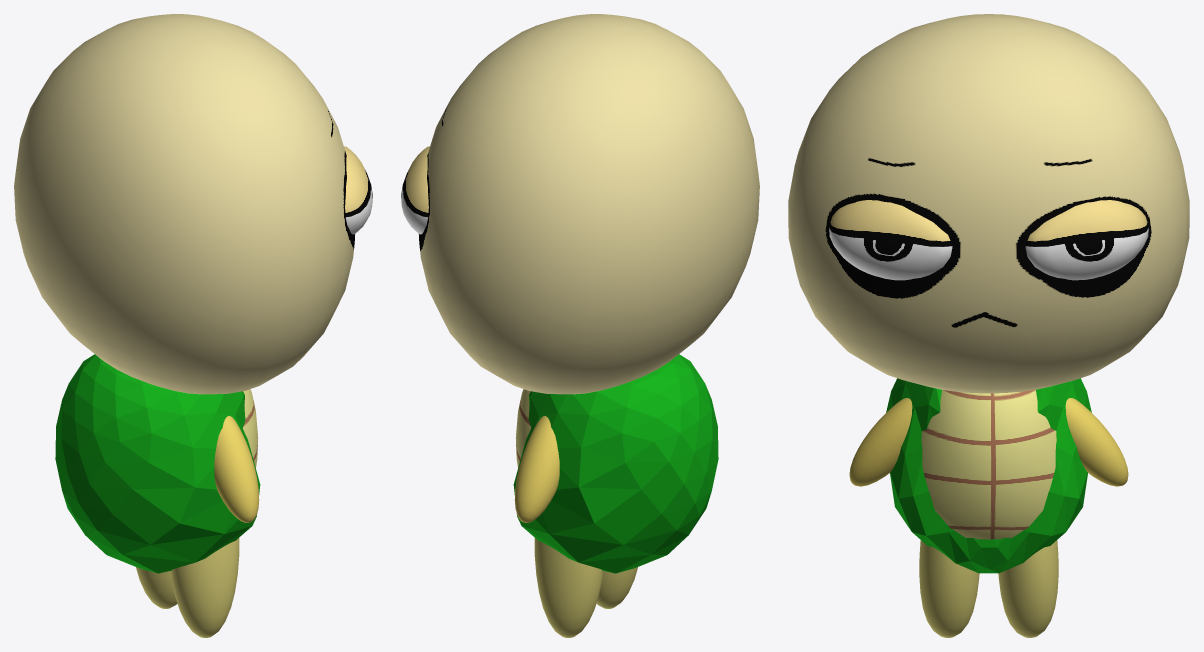
Rendered from turtle.glb.
3 renders of one model, left to right at view 1: azimuth 30°, elevation 25°; view 2: azimuth 150°, elevation 25°; view 3: azimuth 270°, elevation 25°, orthographic. The views are drawn at different scales.
Parts seen in each view (by area): view 1: Sphere, Icosphere, Sphere.002, Sphere.003, Sphere.004, Sphere.001; view 2: Sphere, Icosphere, Sphere.002, Sphere.003, Sphere.004, Sphere.001; view 3: Sphere, Sphere.001, Sphere.004, Icosphere, Sphere.002, Sphere.003.
Boxes of the visible parts, x1,y1,x2,y2 form: Sphere: [14, 14, 354, 394]; Icosphere: [55, 354, 260, 573]; Sphere.002: [136, 538, 239, 637]; Sphere.003: [214, 416, 259, 522]; Sphere.004: [344, 146, 372, 234]; Sphere.001: [243, 389, 258, 467]; Sphere: [419, 14, 759, 394]; Icosphere: [513, 354, 718, 573]; Sphere.002: [534, 538, 637, 637]; Sphere.003: [514, 416, 559, 522]; Sphere.004: [401, 146, 429, 234]; Sphere.001: [515, 389, 531, 467]; Sphere: [788, 14, 1189, 393]; Sphere.001: [921, 390, 1056, 539]; Sphere.004: [829, 200, 1148, 280]; Icosphere: [886, 378, 1091, 573]; Sphere.002: [919, 540, 1058, 637]; Sphere.003: [849, 398, 1128, 486].
Bounding box in the file's own units: 1.72 × 3.47 × 2.08.
6 materials, 3 textured.
